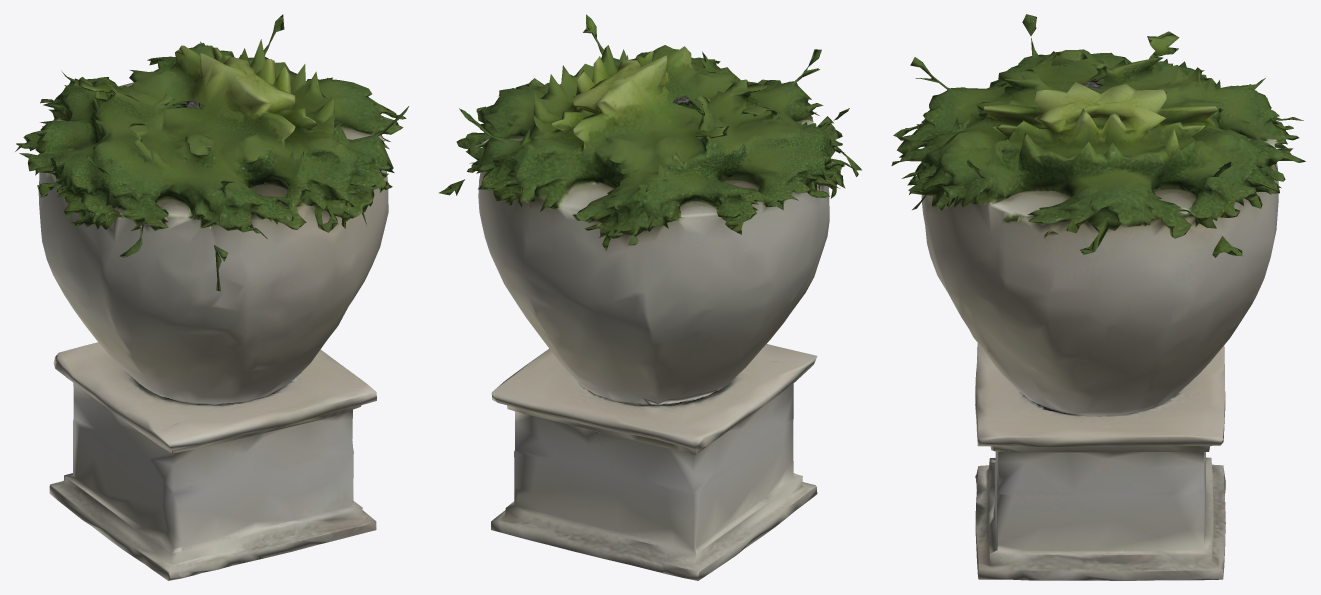
Rendered from pot_besar.glb.
3 views of the same model, side by side, from view 1: azimuth 30°, elevation 25°; view 2: azimuth 150°, elevation 25°; view 3: azimuth 270°, elevation 25° (orthographic). The views are drawn at different scales.
Parts seen in each view (by area): view 1: tripo_node_5881c053-eda5-463e-b9ab-4c4d3b496414; view 2: tripo_node_5881c053-eda5-463e-b9ab-4c4d3b496414; view 3: tripo_node_5881c053-eda5-463e-b9ab-4c4d3b496414.
Boxes of the visible parts, x1=… form: tripo_node_5881c053-eda5-463e-b9ab-4c4d3b496414: x1=15, y1=14, x2=408, y2=580; tripo_node_5881c053-eda5-463e-b9ab-4c4d3b496414: x1=439, y1=14, x2=861, y2=580; tripo_node_5881c053-eda5-463e-b9ab-4c4d3b496414: x1=891, y1=14, x2=1305, y2=580.
Bounding box in the file's own units: 0.8608 × 1 × 0.8322.
Materials: 1 (1 with a texture image).
